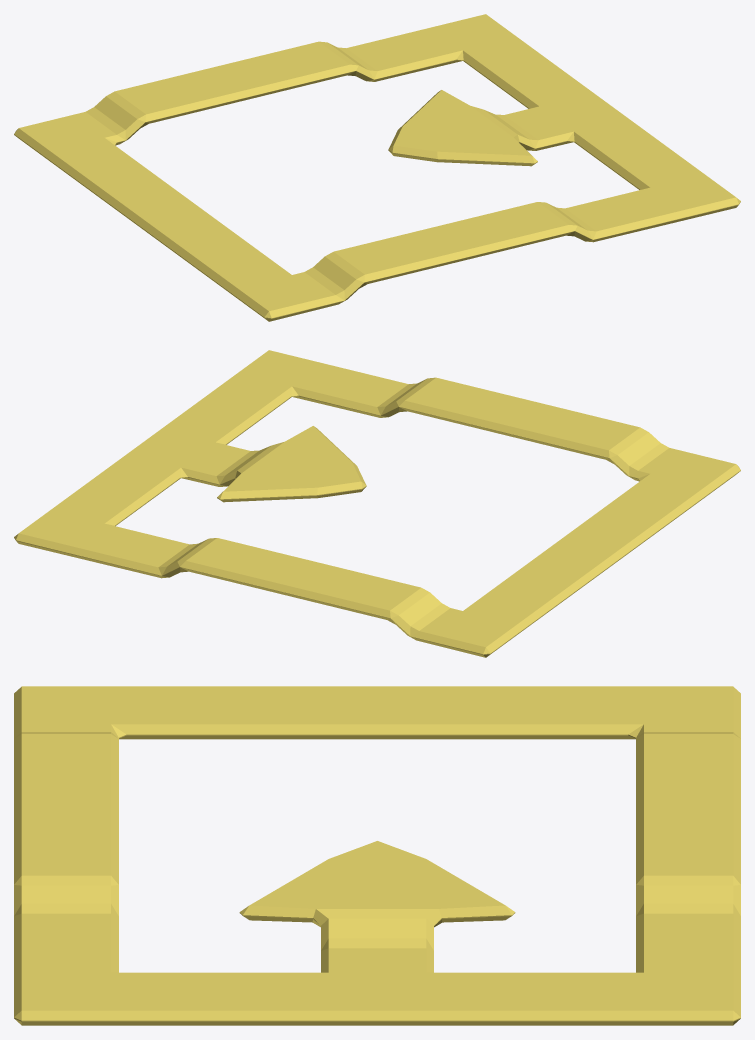
Rendered from arrow-ath.fbx.
3 renders of one model, top to bottom at view 1: azimuth 30°, elevation 25°; view 2: azimuth 150°, elevation 25°; view 3: azimuth 270°, elevation 25°, orthographic. The views are drawn at different scales.
Visible parts, largest first — view 1: Plane.002; view 2: Plane.002; view 3: Plane.002.
Boxes of the visible parts, left/top/right/bottom form: Plane.002: left=14, top=14, right=740, bottom=321; Plane.002: left=14, top=350, right=740, bottom=657; Plane.002: left=14, top=686, right=740, bottom=1025.
Bounding box in the file's own units: 47.23 × 2.26 × 43.89.
